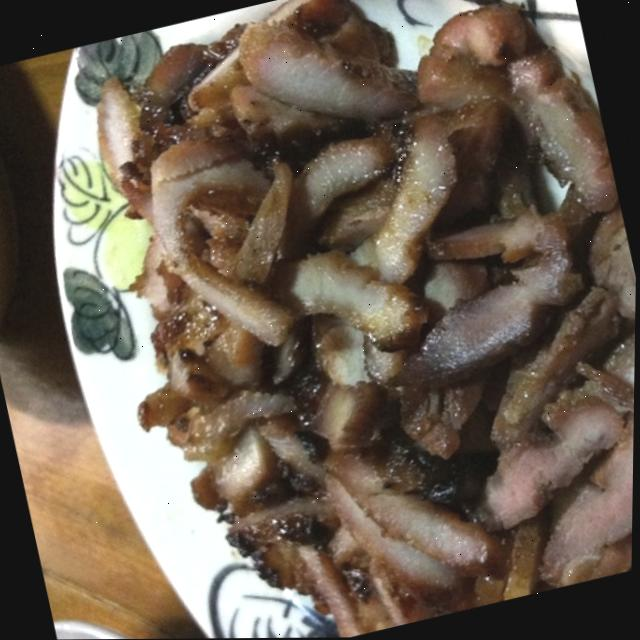猪肉菜式: (32, 0, 640, 640)
